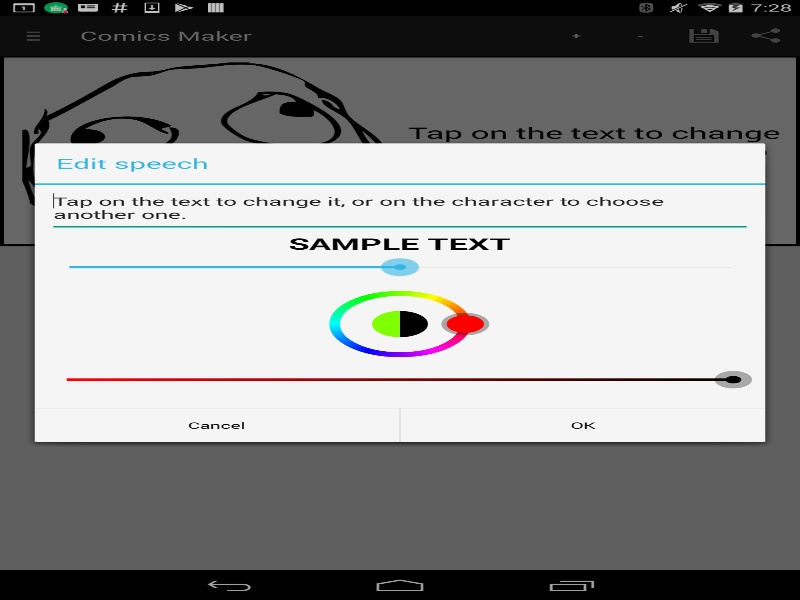Button: (34, 408, 399, 442), (400, 408, 765, 442)
Input: (48, 190, 752, 230)
